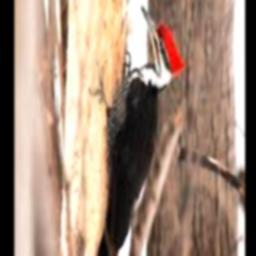Woodpecker: (91, 4, 186, 256)
